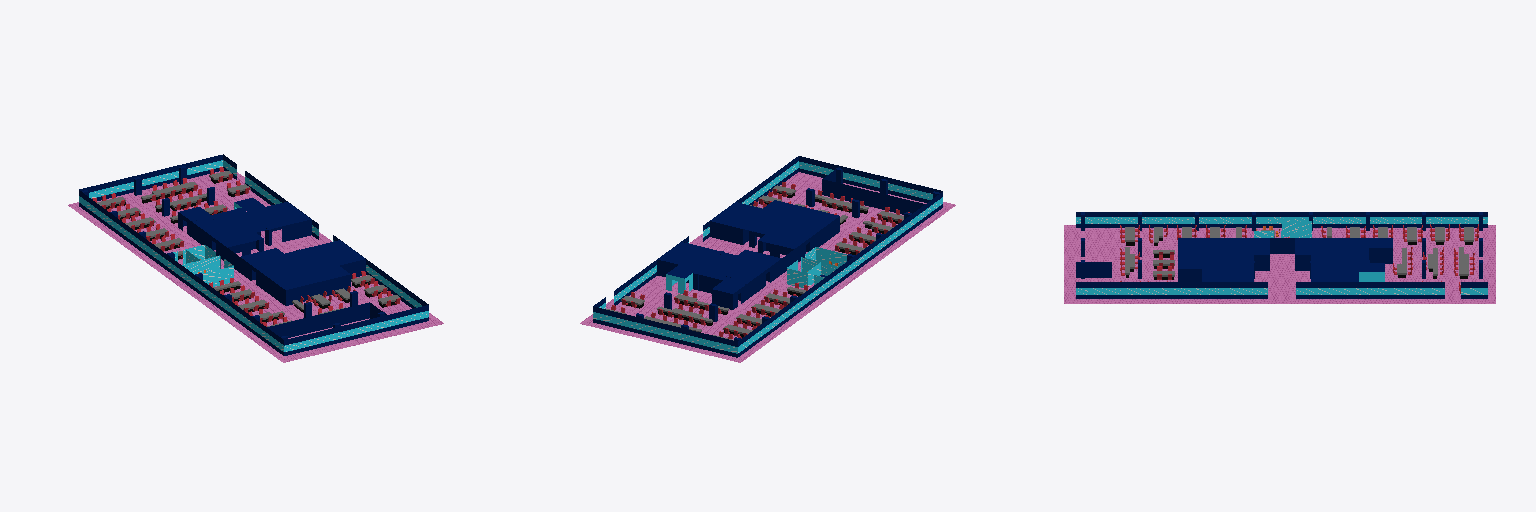
3 views of the same model, side by side, from view 1: azimuth 30°, elevation 25°; view 2: azimuth 150°, elevation 25°; view 3: azimuth 270°, elevation 25° (orthographic).
Parts seen in each view (by area): view 1: walls_Plane; view 2: walls_Plane; view 3: walls_Plane.
Boxes of the visible parts, box(x1,y1,x2,y2) form: walls_Plane: box(68, 154, 443, 362); walls_Plane: box(580, 156, 955, 362); walls_Plane: box(1064, 212, 1495, 303).
Bounding box in the file's own units: 2.79 × 0.275 × 6.47.
Materials: 14 (2 with a texture image).